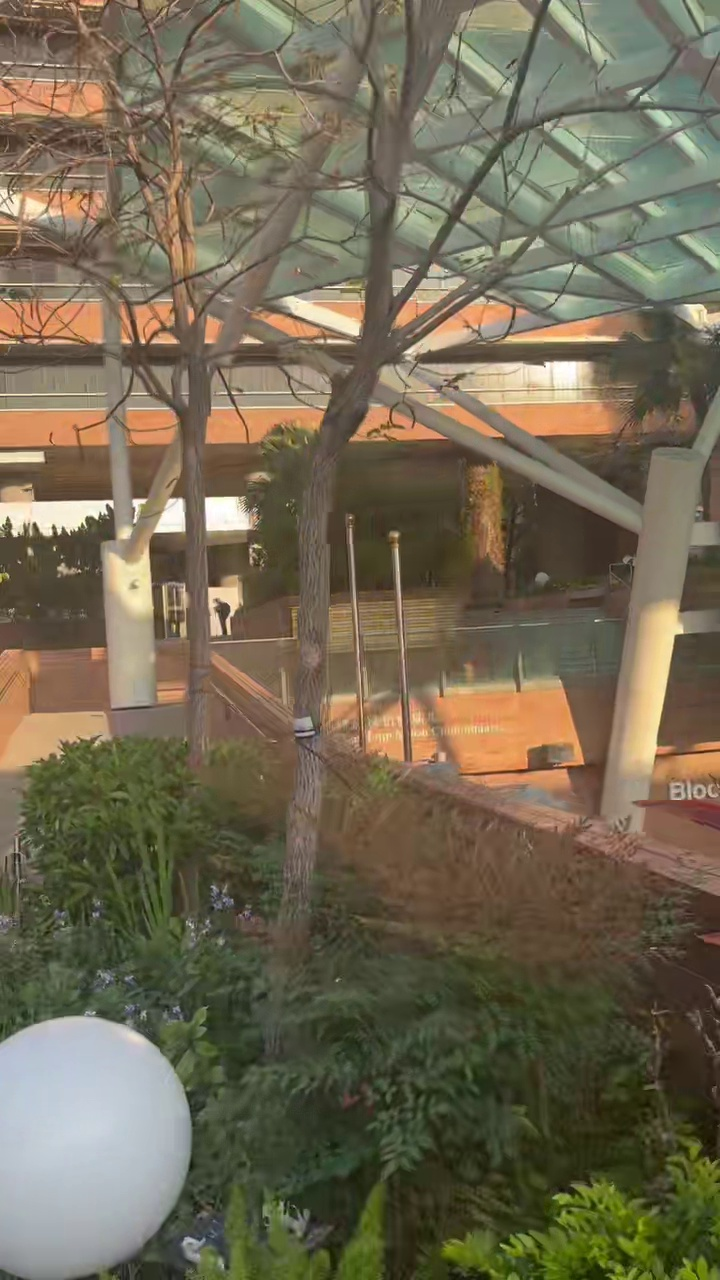Tabebuia chrysantha: (277, 0, 559, 949)
